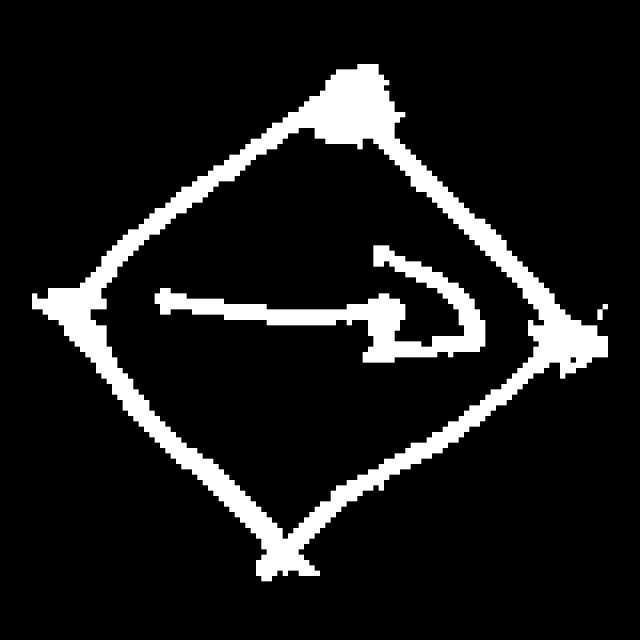dependant_current: (78, 58, 569, 550)
